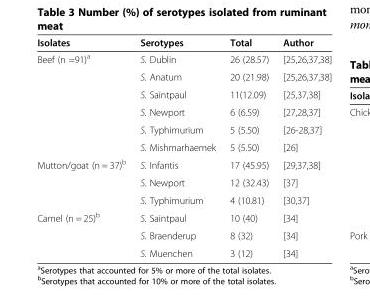table: (36, 36, 331, 258)
table column: (36, 36, 132, 258), (132, 36, 222, 258), (275, 36, 331, 258), (222, 36, 275, 258)
table column header: (36, 36, 331, 49)
table row: (36, 207, 331, 226), (36, 49, 331, 67), (36, 67, 331, 85), (36, 102, 331, 120), (36, 120, 331, 138), (36, 155, 331, 173), (36, 173, 331, 191), (36, 226, 331, 244), (36, 85, 331, 102), (36, 138, 331, 155), (36, 191, 331, 207), (36, 244, 331, 258), (36, 36, 331, 49)
table spanning cell: (36, 49, 132, 155), (36, 155, 132, 207), (36, 207, 132, 258)
